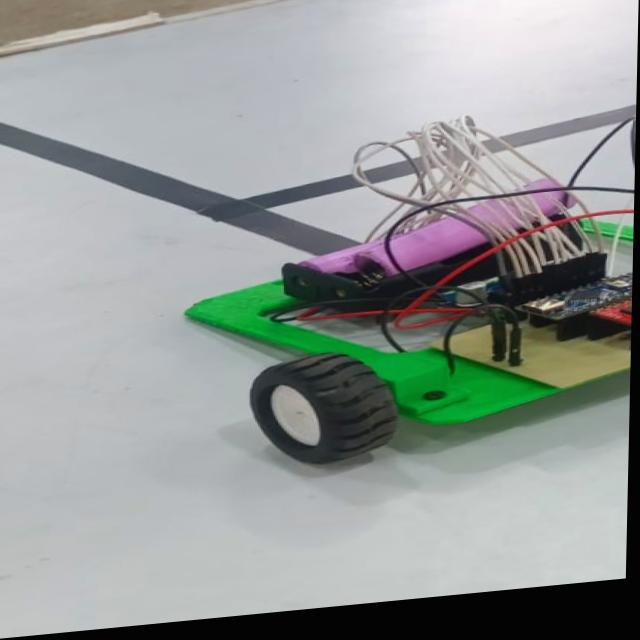vehicle: (204, 100, 636, 467)
